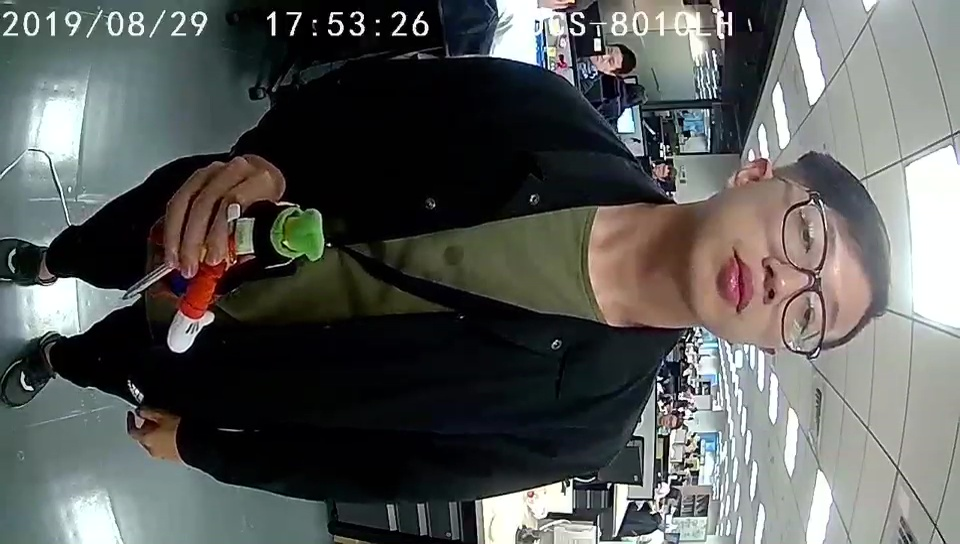goofy: (165, 198, 326, 355)
